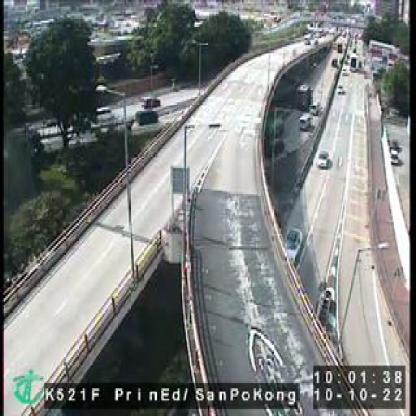Car: (136, 108, 160, 128), (143, 92, 161, 108), (388, 145, 400, 163), (318, 150, 331, 166), (301, 113, 312, 129)
